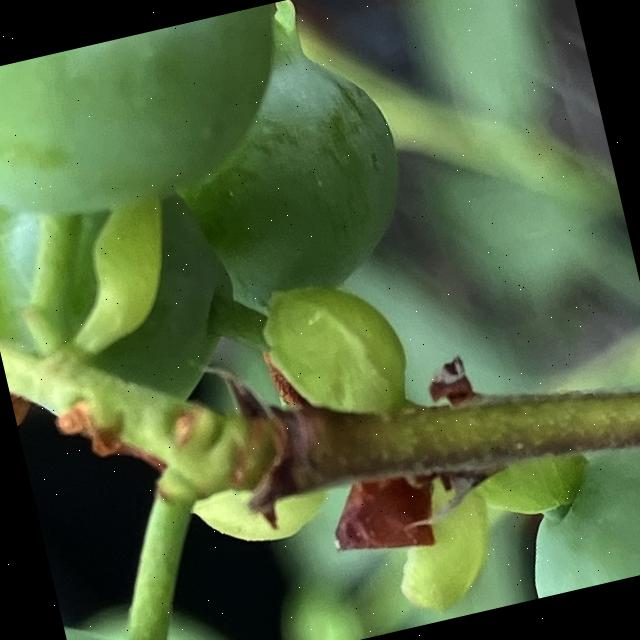Blueberries: (0, 2, 313, 247)
